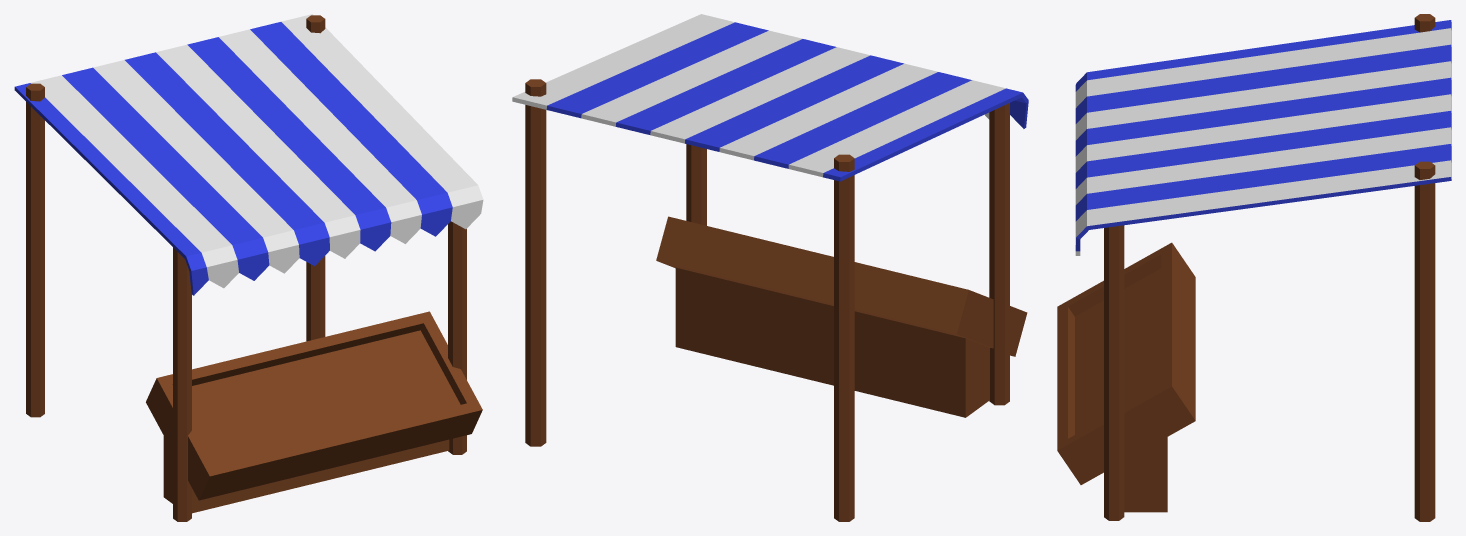
The model's file is SM_Marketstand.fbx.
The picture shows the model from 3 angles, left to right: view 1: azimuth 30°, elevation 25°; view 2: azimuth 150°, elevation 25°; view 3: azimuth 270°, elevation 25°; orthographic projection. The views are drawn at different scales.
Parts seen in each view (by area): view 1: Plane, Cube.005, Cylinder.001, Cylinder.003, Cube.004, Cylinder.002, Cylinder; view 2: Plane, Cube.004, Cube.005, Cylinder, Cylinder.001, Cylinder.003, Cylinder.002; view 3: Plane, Cube.005, Cylinder, Cylinder.002, Cube.004.
Boxes of the visible parts, box(x1,y1,x2,y2) form: Plane: box(14, 14, 483, 295); Cube.005: box(146, 311, 482, 500); Cylinder.001: box(26, 83, 44, 417); Cylinder.003: box(173, 247, 191, 521); Cube.004: box(163, 436, 449, 513); Cylinder.002: box(448, 221, 466, 454); Cylinder: box(306, 15, 325, 341); Plane: box(512, 14, 1028, 181); Cube.004: box(675, 267, 989, 417); Cube.005: box(656, 216, 1027, 356); Cylinder: box(525, 79, 546, 446); Cylinder.001: box(834, 154, 854, 521); Cylinder.003: box(989, 103, 1009, 405); Cylinder.002: box(686, 144, 706, 225); Plane: box(1075, 20, 1451, 255); Cube.005: box(1057, 242, 1195, 484); Cylinder: box(1414, 161, 1435, 521); Cylinder.002: box(1104, 225, 1124, 520); Cube.004: box(1124, 437, 1167, 512).
Size of the model in its own units: 229 by 240 by 243.
